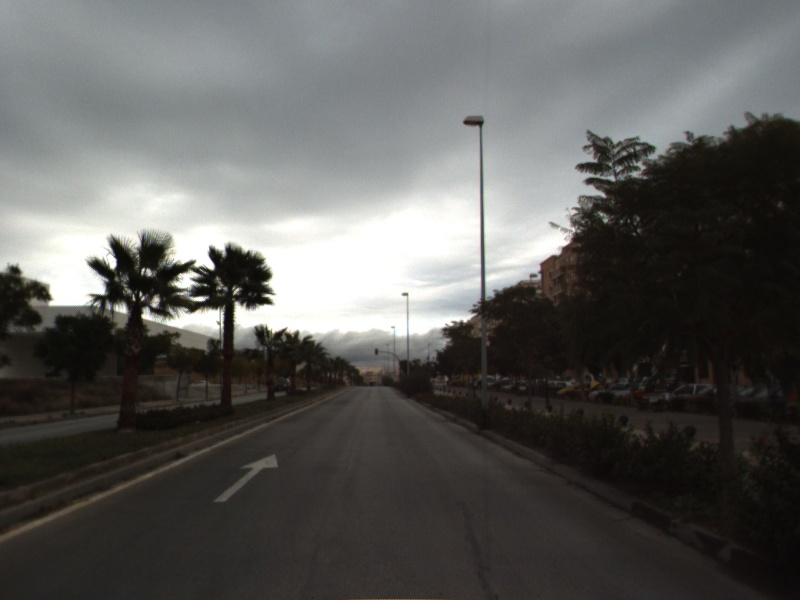STRAIGHT: (211, 451, 280, 504)
